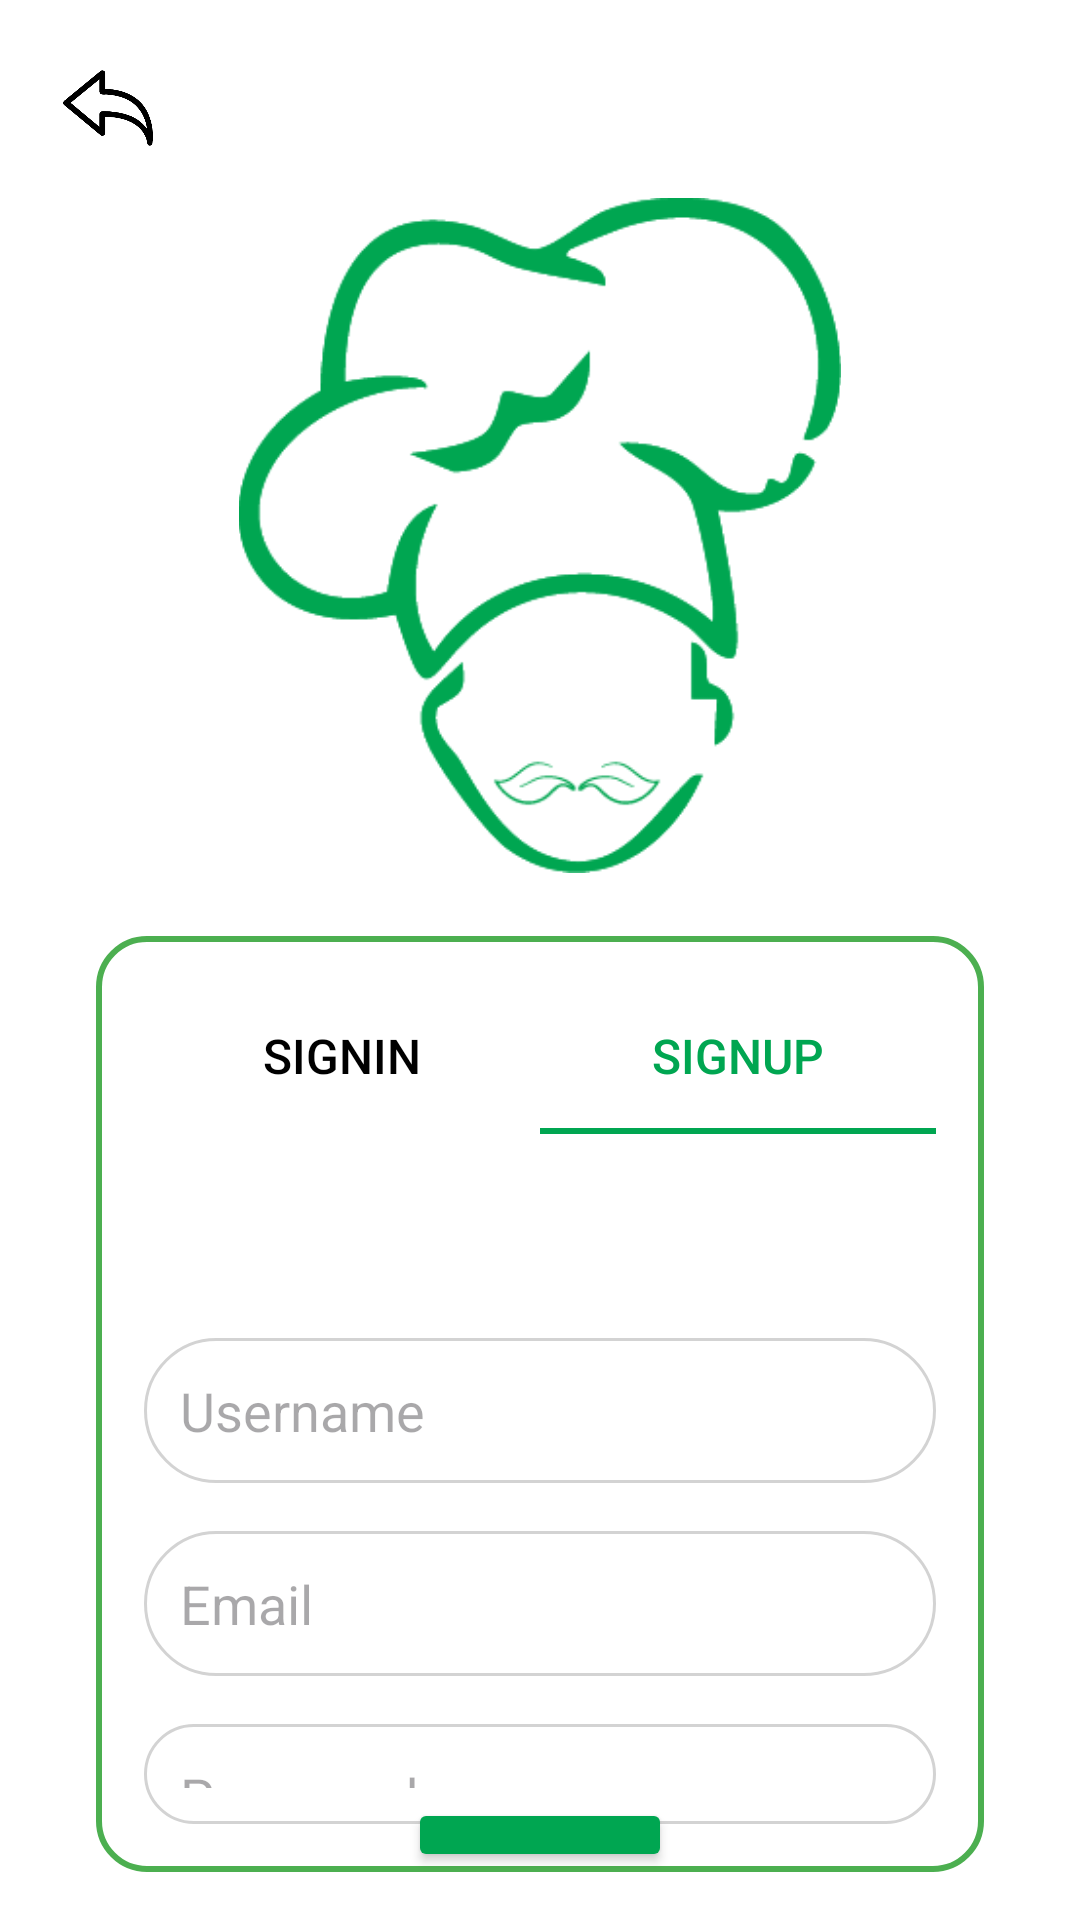

Named icons in this screenshot (1080 × 1920) and their bounding boxes, (x1, y1, x2, y2):
Back: (63, 70, 153, 146)
